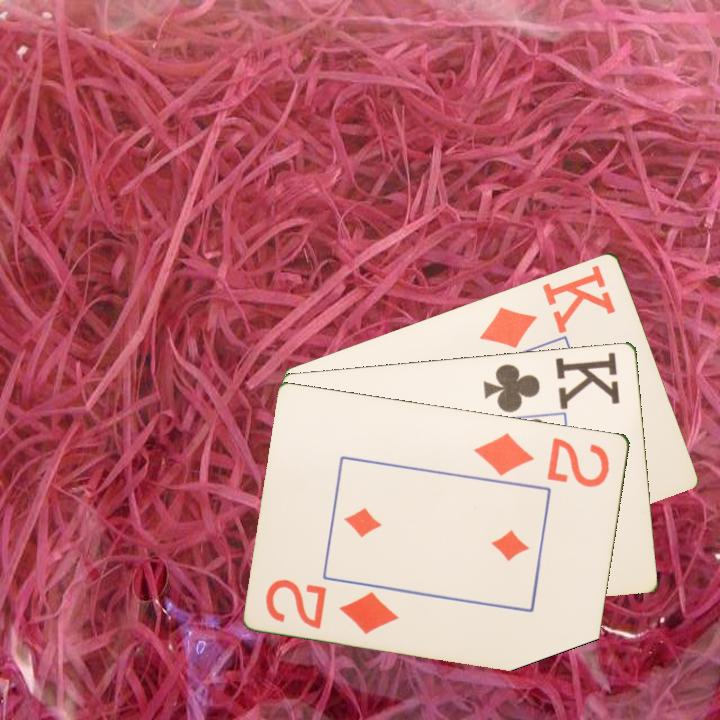2d: (470, 429, 613, 490), (262, 575, 402, 637)
Kc: (480, 348, 624, 415)
Kd: (476, 261, 619, 351)
